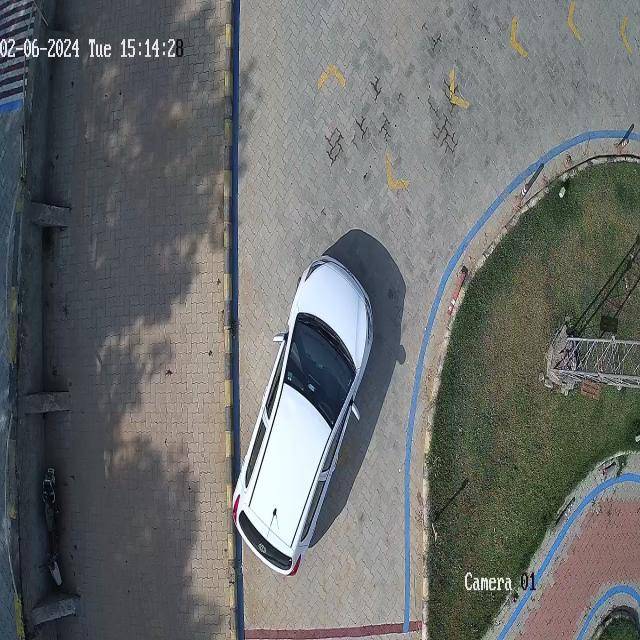car: (230, 257, 373, 582)
